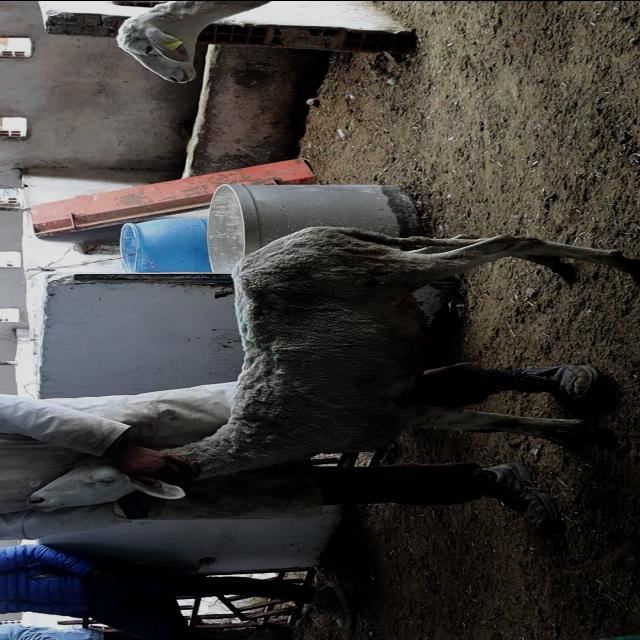Score_1: (172, 225, 638, 478)
